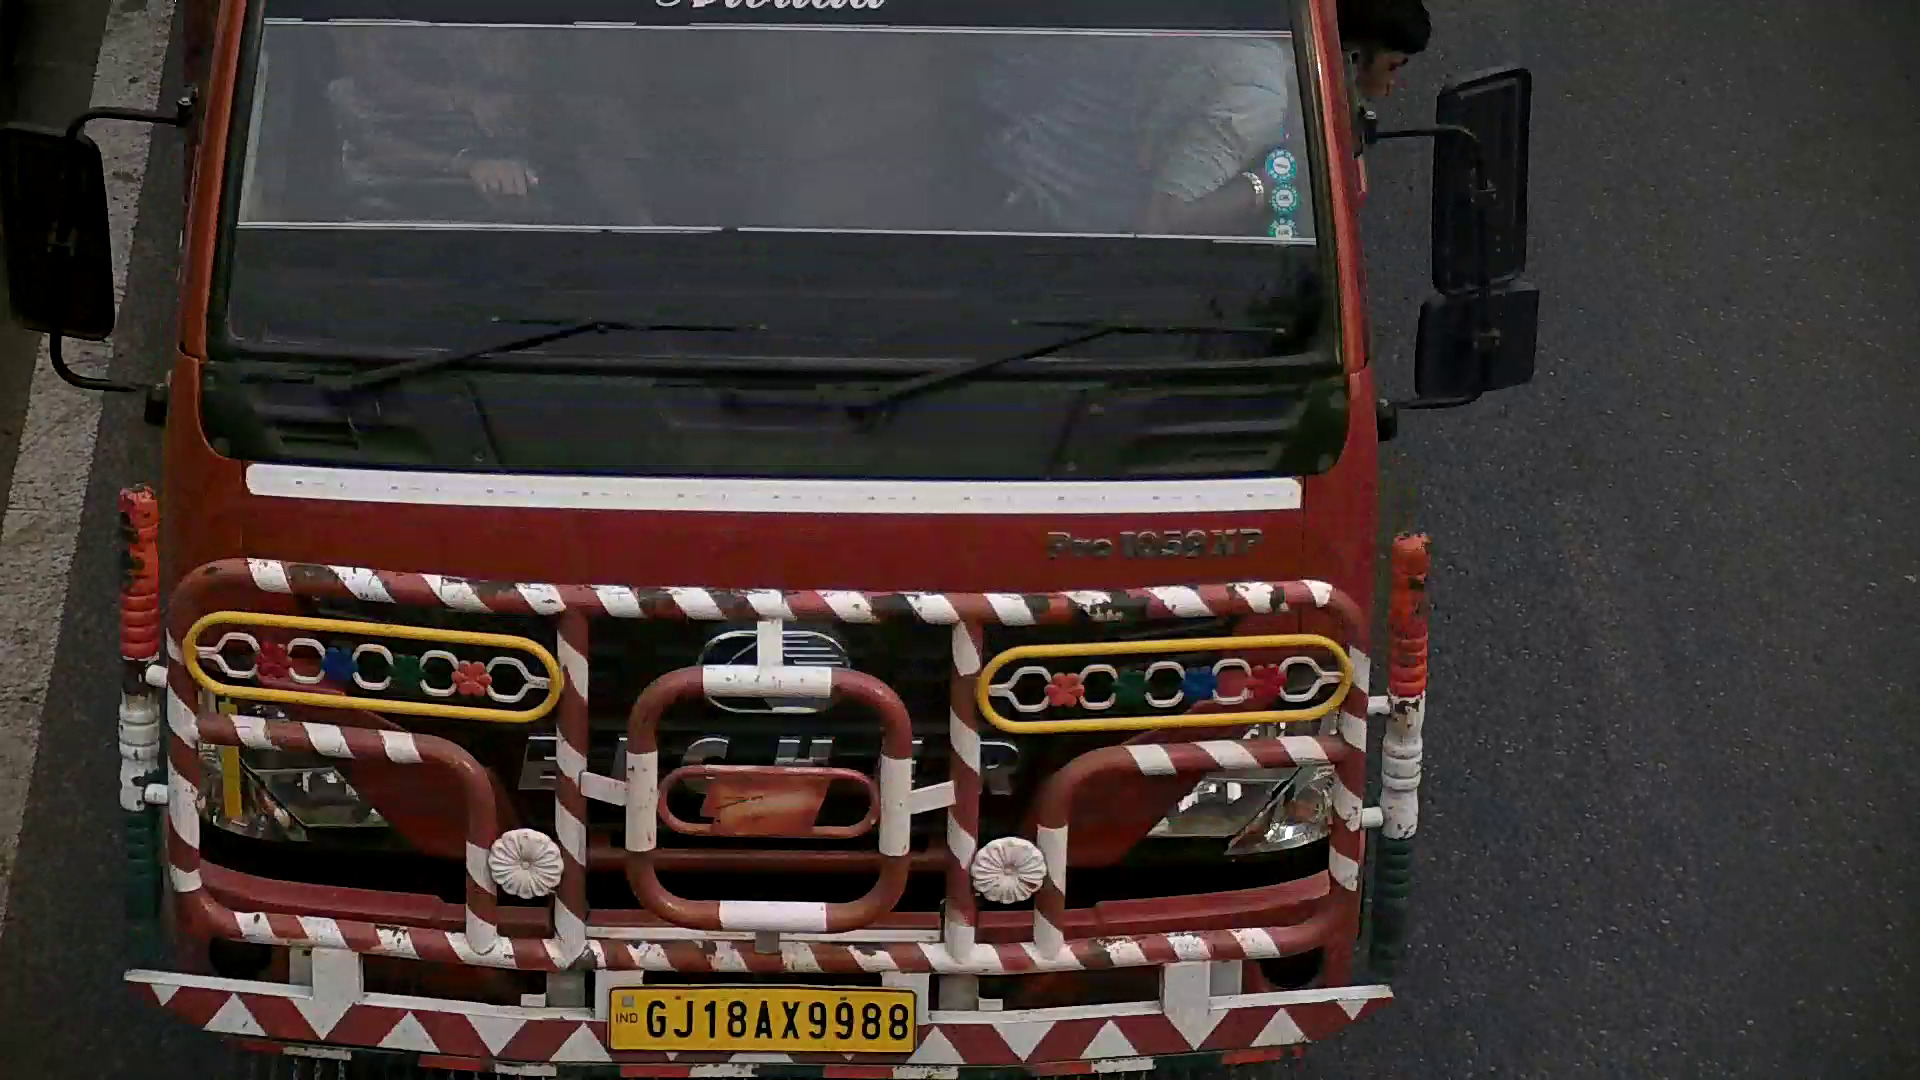numberplate: (606, 986, 914, 1061)
